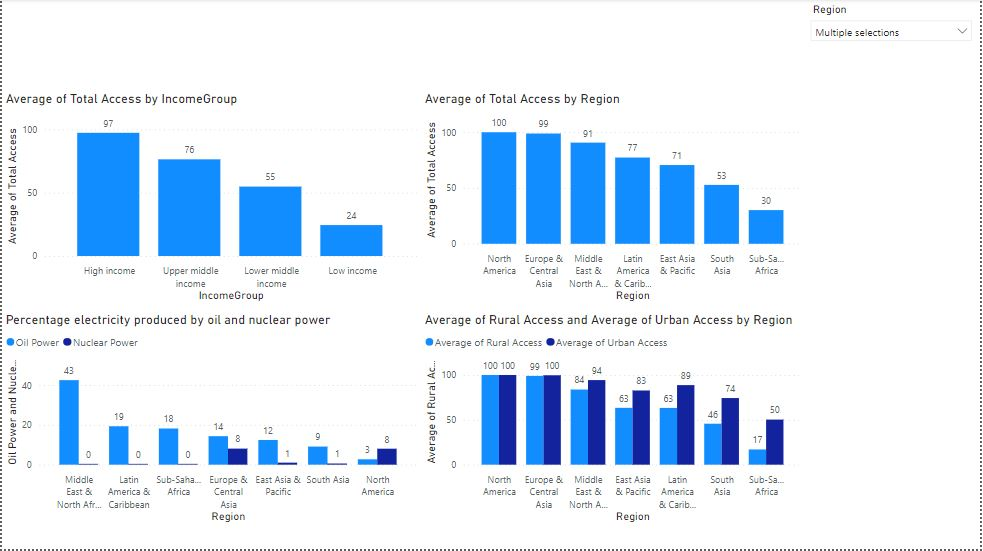

The page's visual inventory and layout, read from the dashboard file:
{"tool":"powerbi","page":{"name":"Page 2","canvas":[1280,720],"ordinal":1},"visuals":[{"type":"clusteredColumnChart","fields":{"Category":["Country.IncomeGroup"],"Y":["Avg(dataLongForm.Total Access)"]},"box":[0,120,548.6,280],"z":0},{"type":"slicer","fields":{"Values":["Region.Region"]},"box":[1048.6,0,231.4,67.1],"z":1},{"type":"clusteredColumnChart","fields":{"Category":["Region.Region"],"Y":["Avg(dataLongForm.Total Access)"]},"box":[548.6,120,504.3,280],"z":2},{"type":"clusteredColumnChart","title":"Percentage electricity produced by oil and nuclear power","fields":{"Category":["Region.Region"],"Y":["Avg(dataLongForm.Oil Power)","Avg(dataLongForm.Nuclear Power)"]},"box":[0,410,549,280],"z":3},{"type":"clusteredColumnChart","fields":{"Category":["Region.Region"],"Y":["Avg(dataLongForm.Rural Access)","Avg(dataLongForm.Urban Access)"]},"box":[549,410,504,280],"z":4}]}

Visuals, with their boxes in screenshot pixels (x1, y1, x2, y2), scaled from the page's 1280x720 canvas onto the 983x551 screenshot:
clusteredColumnChart - Country.IncomeGroup x Avg(dataLongForm.Total Access): Rect(0, 92, 421, 306)
slicer - Region.Region: Rect(805, 0, 982, 51)
clusteredColumnChart - Region.Region x Avg(dataLongForm.Total Access): Rect(421, 92, 809, 306)
"Percentage electricity produced by oil and nuclear power" clusteredColumnChart: Rect(0, 314, 422, 528)
clusteredColumnChart - Region.Region x Avg(dataLongForm.Rural Access): Rect(422, 314, 809, 528)
